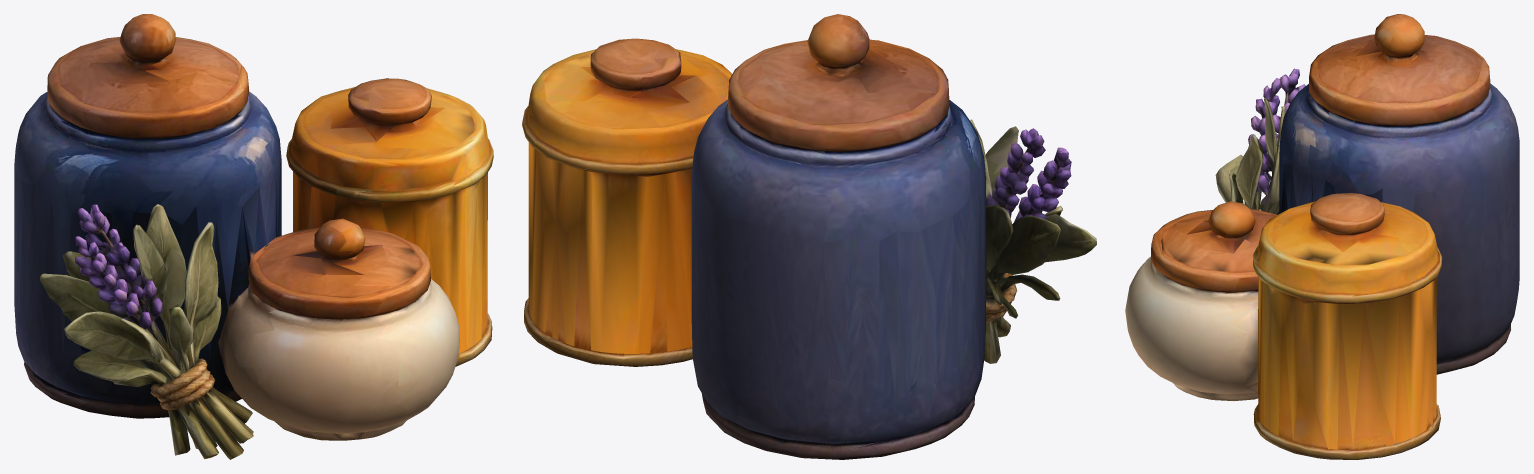
File: herb_jars.glb
3 views of the same model, side by side, from view 1: azimuth 30°, elevation 25°; view 2: azimuth 150°, elevation 25°; view 3: azimuth 270°, elevation 25° (orthographic). The views are drawn at different scales.
Parts seen in each view (by area): view 1: tripo_node_2d69e356-3c85-4a59-9641-80316510f555; view 2: tripo_node_2d69e356-3c85-4a59-9641-80316510f555; view 3: tripo_node_2d69e356-3c85-4a59-9641-80316510f555.
Boxes of the visible parts, x1=… form: tripo_node_2d69e356-3c85-4a59-9641-80316510f555: x1=14, y1=14, x2=493, y2=459; tripo_node_2d69e356-3c85-4a59-9641-80316510f555: x1=522, y1=14, x2=1096, y2=459; tripo_node_2d69e356-3c85-4a59-9641-80316510f555: x1=1125, y1=14, x2=1519, y2=459.
Bounding box in the file's own units: 0.3184 × 0.24 × 0.2622.
1 material, 1 textured.
